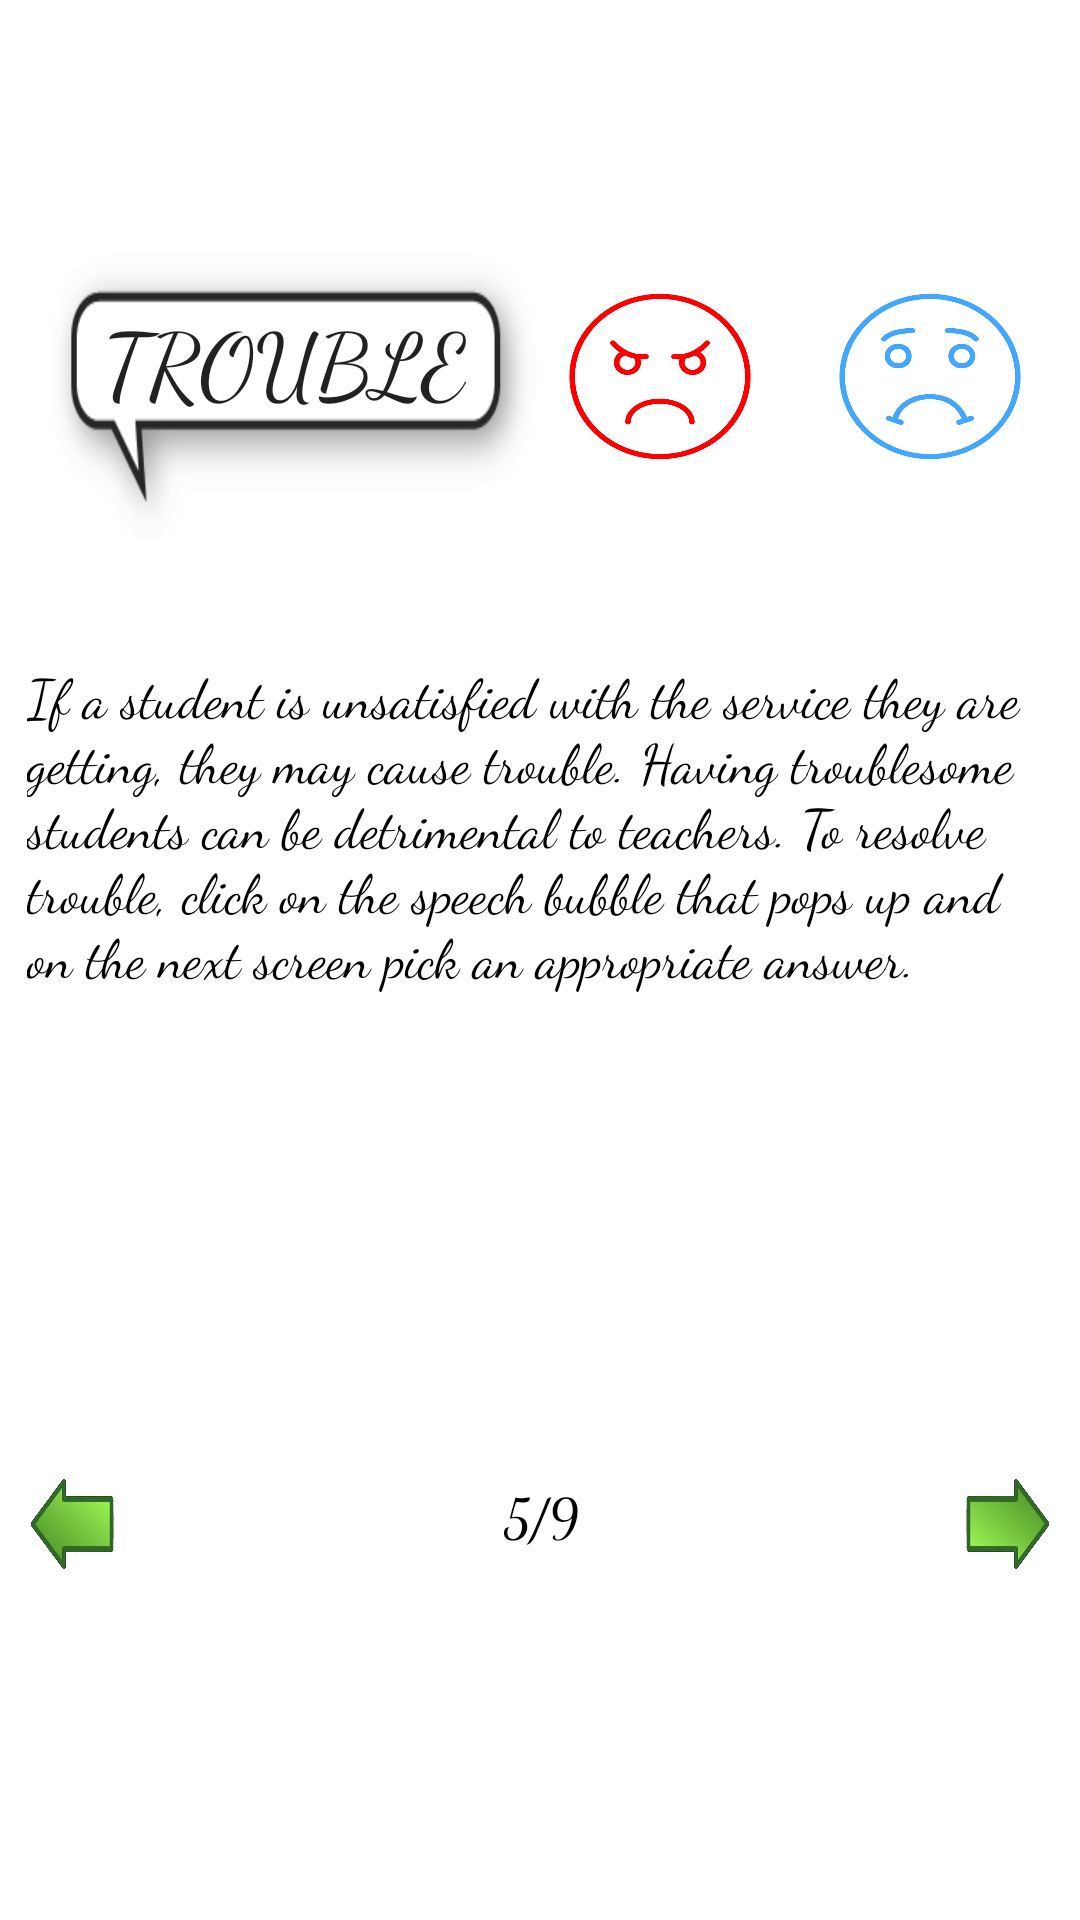

Point at icon controls on the screen. Image size 1080w x 1920h, points as (x=x, y=y).
pissedface: (x=660, y=376)
unhappyface: (x=930, y=376)
